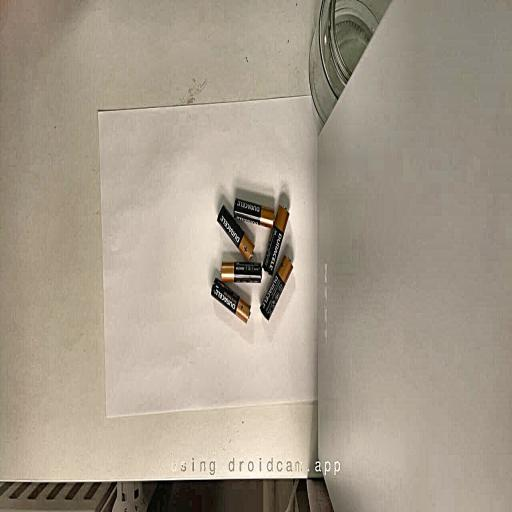DuracellAA: (260, 255, 293, 320), (218, 206, 254, 260), (263, 206, 289, 274), (211, 278, 250, 323), (234, 198, 274, 228), (221, 262, 262, 282)
